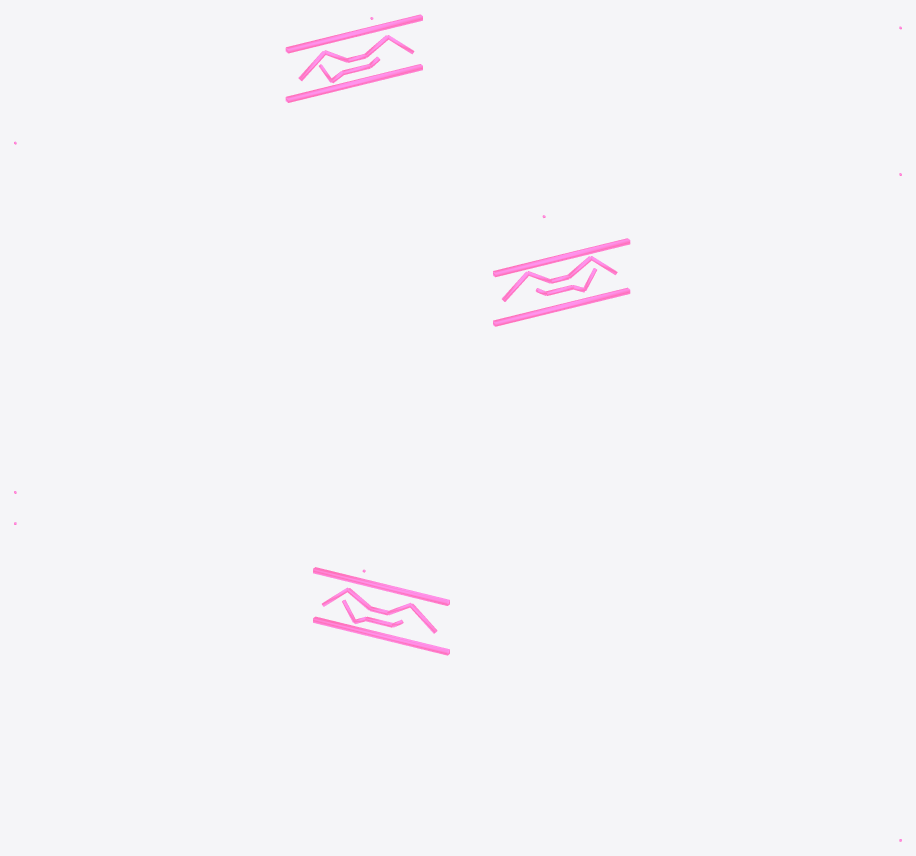
The model's file is Neon_Albatros_Letrero.fbx.
The picture shows the model from 3 angles, top to bottom: view 1: azimuth 30°, elevation 25°; view 2: azimuth 210°, elevation 25°; view 3: azimuth 330°, elevation 25°; orthographic projection.
Parts seen in each view (by area): view 1: Albatros_Letrero; view 2: Albatros_Letrero; view 3: Albatros_Letrero.
Part boxes in pixels (x1,y1,x2,y2): Albatros_Letrero: (14, 14, 901, 144); Albatros_Letrero: (14, 173, 901, 493); Albatros_Letrero: (14, 522, 901, 841).
Bounding box in the file's own units: 78.81 × 12.28 × 2.97.
